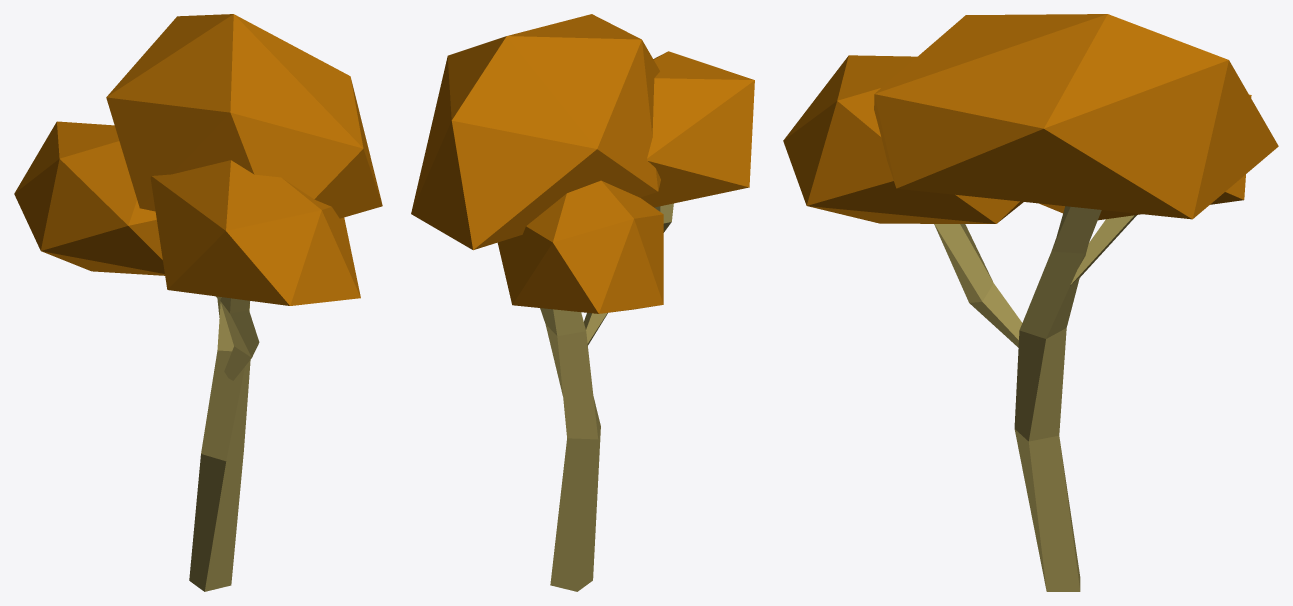
File: Tree_Fall_1.fbx
3 views of the same model, side by side, from view 1: azimuth 30°, elevation 25°; view 2: azimuth 150°, elevation 25°; view 3: azimuth 270°, elevation 25° (orthographic). The views are drawn at different scales.
Visible parts, largest first — view 1: Leaves.002, Leaves, Leaves.001, Trunk, Trunk.002; view 2: Leaves.002, Leaves.001, Leaves, Trunk, Trunk.002; view 3: Leaves.002, Leaves, Trunk, Trunk.002, Trunk.001, Leaves.001.
Part boxes in pixels (<box>): Leaves.002: <box>106,14,382,218</box>; Leaves: <box>150,160,360,305</box>; Leaves.001: <box>14,121,164,275</box>; Trunk: <box>189,297,250,591</box>; Trunk.002: <box>220,297,259,380</box>; Leaves.002: <box>411,14,660,250</box>; Leaves.001: <box>497,180,663,313</box>; Leaves: <box>640,51,754,207</box>; Trunk: <box>540,308,600,591</box>; Trunk.002: <box>584,203,673,345</box>; Leaves.002: <box>874,14,1278,219</box>; Leaves: <box>783,55,1023,223</box>; Trunk: <box>1014,206,1101,591</box>; Trunk.002: <box>934,224,1022,347</box>; Trunk.001: <box>1070,215,1136,285</box>; Leaves.001: <box>1039,94,1251,220</box>.
Bounding box in the file's own units: 183 × 364 × 275.
